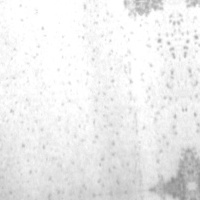pitted_surface: (69, 3, 142, 195), (0, 20, 71, 196), (139, 14, 187, 146), (147, 147, 192, 189), (122, 0, 167, 22)
